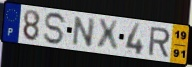4: (124, 22, 146, 57)
8: (22, 9, 41, 43)
N: (71, 15, 98, 49)
R: (147, 26, 172, 58)
S: (43, 12, 68, 47)
X: (97, 18, 120, 52)
